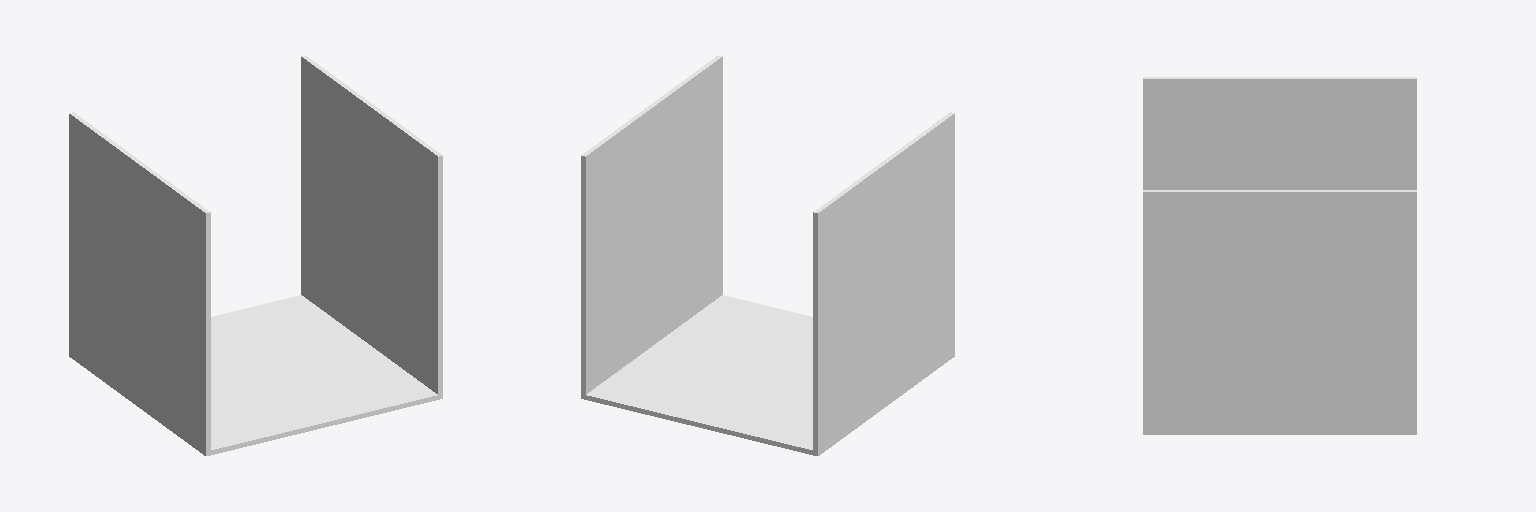
The model's file is wallBig.obj.
3 renders of one model, left to right at view 1: azimuth 30°, elevation 25°; view 2: azimuth 150°, elevation 25°; view 3: azimuth 270°, elevation 25°, orthographic.
Visible parts, largest first — view 1: object 1; view 2: object 1; view 3: object 1.
Boxes of the visible parts, box(x1,y1,x2,y2) form: object 1: box(69, 56, 442, 455); object 1: box(581, 56, 954, 455); object 1: box(1143, 77, 1416, 434).
Size of the model in its own units: 25.6 by 25.1 by 25.6.